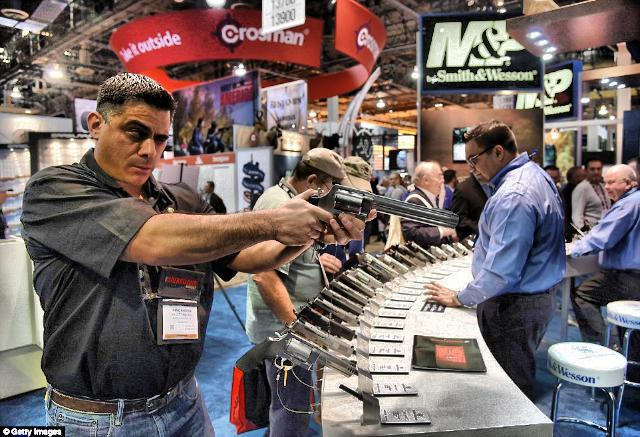pistol: (294, 180, 458, 236)
